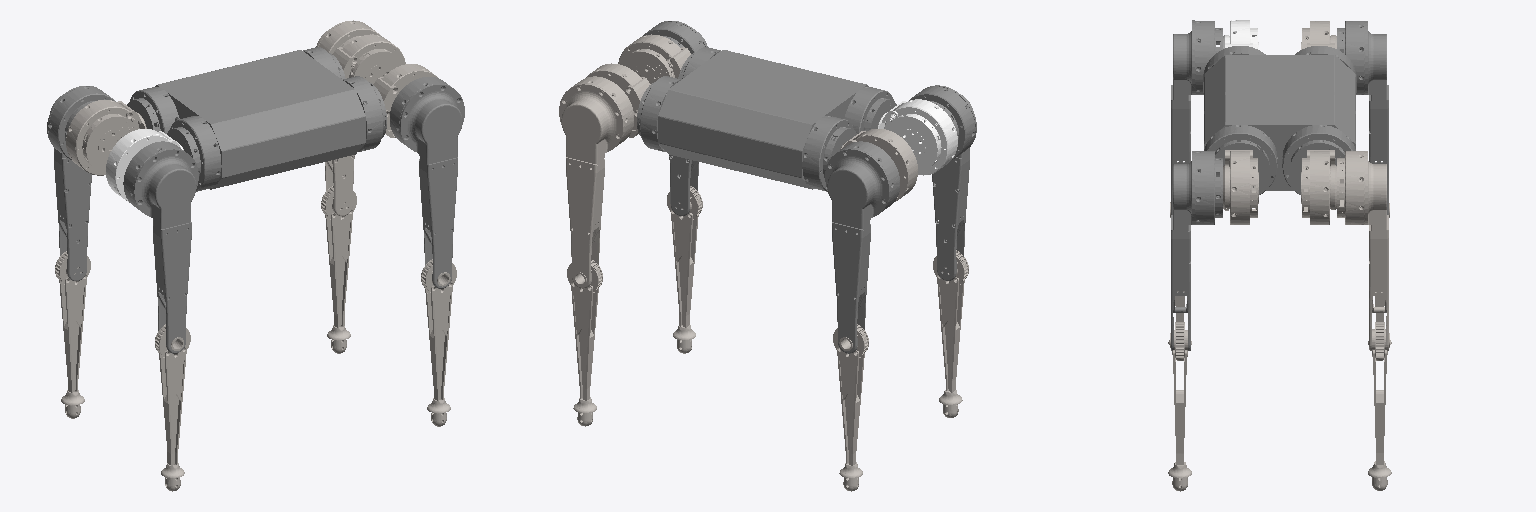
--- Facts derived from the render (not from the file) ---
3 views of the same robot in one strip: view 1: azimuth 30°, elevation 25°; view 2: azimuth 150°, elevation 25°; view 3: azimuth 270°, elevation 25° (orthographic).
Robot: dog_v4 — 13 links, 12 joints (12 revolute); root link body_link; default pose: all joints at 0.
Links seen in each view (by area): view 1: body_link, RB_mid_link, RF_mid_link, LB_mid_link, LB_top_link, RF_down_link, RB_down_link, LF_down_link, LB_down_link, LF_mid_link, LF_top_link, RB_top_link (+1 smaller); view 2: body_link, LF_mid_link, LB_mid_link, RB_mid_link, RB_top_link, LF_down_link, LB_down_link, RF_down_link, RB_down_link, RF_mid_link, RF_top_link, LB_top_link (+1 smaller); view 3: body_link, LF_mid_link, RF_mid_link, LB_mid_link, RB_mid_link, LF_top_link, RF_top_link, LF_down_link, RF_down_link, RB_top_link, LB_top_link.
Link boxes in pixels (<box>): body_link: <box>127,47,386,191</box>; RB_mid_link: <box>123,141,198,353</box>; RF_mid_link: <box>390,77,464,288</box>; LB_mid_link: <box>47,86,115,280</box>; LB_top_link: <box>66,100,146,175</box>; RF_down_link: <box>421,259,456,426</box>; RB_down_link: <box>155,324,190,491</box>; LF_down_link: <box>321,186,356,353</box>; LB_down_link: <box>55,251,90,418</box>; LF_mid_link: <box>316,20,380,215</box>; LF_top_link: <box>333,34,405,83</box>; RB_top_link: <box>106,129,183,202</box>; body_link: <box>637,47,896,191</box>; LF_mid_link: <box>559,76,633,288</box>; LB_mid_link: <box>825,141,899,353</box>; RB_mid_link: <box>909,85,976,280</box>; RB_top_link: <box>877,99,957,175</box>; LF_down_link: <box>567,259,602,426</box>; LB_down_link: <box>833,324,868,491</box>; RF_down_link: <box>667,186,702,353</box>; RB_down_link: <box>933,250,968,417</box>; RF_mid_link: <box>643,21,707,215</box>; RF_top_link: <box>618,34,690,83</box>; LB_top_link: <box>840,129,917,201</box>; body_link: <box>1203,46,1356,194</box>; LF_mid_link: <box>1337,151,1388,350</box>; RF_mid_link: <box>1171,151,1222,350</box>; LB_mid_link: <box>1337,21,1388,214</box>; RB_mid_link: <box>1171,20,1222,214</box>; LF_top_link: <box>1301,150,1336,224</box>; RF_top_link: <box>1223,150,1258,224</box>; LF_down_link: <box>1368,322,1391,490</box>; RF_down_link: <box>1168,322,1191,491</box>; RB_top_link: <box>1223,20,1258,49</box>; LB_top_link: <box>1301,21,1336,49</box>.
Size in the robot's own frame: 0.4813 by 0.2811 by 0.4675 metres.
13 mesh visuals loaded from 13 distinct referenced files (13 binary STL).

The robot description file, URDF, robot "dog_v4":
<?xml version="1.0" encoding="utf-8"?>
<!-- =================================================================================== -->
<!-- |    This document was autogenerated by xacro from dog_v4.xacro                   | -->
<!-- |    EDITING THIS FILE BY HAND IS NOT RECOMMENDED                                 | -->
<!-- =================================================================================== -->
<robot name="dog_v4">
  <link name="body_link">
    <inertial>
      <origin rpy="0 0 0" xyz="3.59365399029842E-08 2.29125606890368E-07 0.0454498530336411"/>
      <mass value="25.0794314099621"/>
      <inertia ixx="0.0822942642469674" ixy="-1.78120229421848E-08" ixz="8.54734089425751E-08" iyy="0.105805896621498" iyz="2.84371497321219E-07" izz="0.156039805240398"/>
    </inertial>
    <visual>
      <origin rpy="0 0 0" xyz="0 0 0"/>
      <geometry>
        <mesh filename="package://dog_v4/meshes/body_link.STL"/>
      </geometry>
      <material name="">
        <color rgba="0.6 0.6 0.6 1"/>
      </material>
    </visual>
    <collision>
      <origin rpy="0 0 0" xyz="0 0 0"/>
      <geometry>
        <mesh filename="package://dog_v4/meshes/body_link.STL"/>
      </geometry>
    </collision>
  </link>
  <link name="LF_top_link">
    <inertial>
      <origin rpy="0 0 0" xyz="0.02639 0.00062285 1.3269E-05"/>
      <mass value="0.1574"/>
      <inertia ixx="9.4106E-05" ixy="-9.8768E-07" ixz="-1.1286E-07" iyy="0.00012496" iyz="-9.7383E-09" izz="5.9686E-05"/>
    </inertial>
    <visual>
      <origin rpy="0 0 0" xyz="0 0 0"/>
      <geometry>
        <mesh filename="package://dog_v4/meshes/LF_top_link.STL"/>
      </geometry>
      <material name="">
        <color rgba="0.77647 0.75686 0.73725 1"/>
      </material>
    </visual>
    <collision>
      <origin rpy="0 0 0" xyz="0 0 0"/>
      <geometry>
        <mesh filename="package://dog_v4/meshes/LF_top_link.STL"/>
      </geometry>
    </collision>
  </link>
  <joint name="LF_top_joint" type="revolute">
    <origin rpy="0 0 0" xyz="0.141 0.05 0.04545"/>
    <parent link="body_link"/>
    <child link="LF_top_link"/>
    <axis xyz="1 0 0"/>
    <limit effort="100.0" lower="-1.57" upper="1.57" velocity="5.0"/>
    <dynamics damping="0.0" friction="0.0"/>
  </joint>
  <link name="LF_mid_link">
    <inertial>
      <origin rpy="0 0 0" xyz="-1.22483682477581E-05 0.0487648912011176 -0.0633406233333356"/>
      <mass value="0.738937110035494"/>
      <inertia ixx="0.00103721052037978" ixy="-2.04200549677798E-08" ixz="-4.21702731113156E-08" iyy="0.00123011741777564" iyz="1.52024995628507E-05" izz="0.000267793821007483"/>
    </inertial>
    <visual>
      <origin rpy="0 0 0" xyz="0 0 0"/>
      <geometry>
        <mesh filename="package://dog_v4/meshes/LF_mid_link.STL"/>
      </geometry>
      <material name="">
        <color rgba="0.776470588235294 0.756862745098039 0.737254901960784 1"/>
      </material>
    </visual>
    <collision>
      <origin rpy="0 0 0" xyz="0 0 0"/>
      <geometry>
        <mesh filename="package://dog_v4/meshes/LF_mid_link.STL"/>
      </geometry>
    </collision>
  </link>
  <joint name="LF_mid_joint" type="revolute">
    <origin rpy="0 0 0" xyz="0.052647 0.02125 9.2724E-05"/>
    <parent link="LF_top_link"/>
    <child link="LF_mid_link"/>
    <axis xyz="0 1 0"/>
    <limit effort="100.0" lower="-1.57" upper="1.57" velocity="5.0"/>
    <dynamics damping="0.0" friction="0.0"/>
  </joint>
  <link name="LF_down_link">
    <inertial>
      <origin rpy="0 0 0" xyz="-5.2121634081137E-05 0.00100252547655214 -0.0734382702906037"/>
      <mass value="0.300551677258286"/>
      <inertia ixx="0.000336998224662871" ixy="5.09859916248364E-11" ixz="1.16147313952368E-10" iyy="0.000352769216727733" iyz="-1.47711505397845E-11" izz="2.93076635016167E-05"/>
    </inertial>
    <visual>
      <origin rpy="0 0 0" xyz="0 0 0"/>
      <geometry>
        <mesh filename="package://dog_v4/meshes/LF_down_link.STL"/>
      </geometry>
      <material name="">
        <color rgba="0.776470588235294 0.756862745098039 0.737254901960784 1"/>
      </material>
    </visual>
    <collision>
      <origin rpy="0 0 0" xyz="0 0 0"/>
      <geometry>
        <mesh filename="package://dog_v4/meshes/LF_down_link.STL"/>
      </geometry>
    </collision>
  </link>
  <joint name="LF_down_joint" type="revolute">
    <origin rpy="0 0 0" xyz="0 0.0535 -0.21138"/>
    <parent link="LF_mid_link"/>
    <child link="LF_down_link"/>
    <axis xyz="0 1 0"/>
    <limit effort="100.0" lower="-1.57" upper="1.57" velocity="5.0"/>
    <dynamics damping="0.0" friction="0.0"/>
  </joint>
  <link name="RF_top_link">
    <inertial>
      <origin rpy="0 0 0" xyz="0.0263901999841434 -0.000622848908864299 -1.32687268125098E-05"/>
      <mass value="0.15740044195971"/>
      <inertia ixx="9.41058670909895E-05" ixy="9.87683421374913E-07" ixz="1.1285668464894E-07" iyy="0.00012495859879355" iyz="-9.73826160045511E-09" izz="5.96858784543533E-05"/>
    </inertial>
    <visual>
      <origin rpy="0 0 0" xyz="0 0 0"/>
      <geometry>
        <mesh filename="package://dog_v4/meshes/RF_top_link.STL"/>
      </geometry>
      <material name="">
        <color rgba="0.776470588235294 0.756862745098039 0.737254901960784 1"/>
      </material>
    </visual>
    <collision>
      <origin rpy="0 0 0" xyz="0 0 0"/>
      <geometry>
        <mesh filename="package://dog_v4/meshes/RF_top_link.STL"/>
      </geometry>
    </collision>
  </link>
  <joint name="RF_top_joint" type="revolute">
    <origin rpy="0 0 0" xyz="0.141 -0.05 0.04545"/>
    <parent link="body_link"/>
    <child link="RF_top_link"/>
    <axis xyz="1 0 0"/>
    <limit effort="100.0" lower="-1.57" upper="1.57" velocity="5.0"/>
    <dynamics damping="0.0" friction="0.0"/>
  </joint>
  <link name="RF_mid_link">
    <inertial>
      <origin rpy="0 0 0" xyz="7.52172599330359E-05 -0.0487649107544759 -0.063515028561511"/>
      <mass value="0.738937036461301"/>
      <inertia ixx="0.0010372109312777" ixy="-2.04489930527831E-08" ixz="3.64841294031766E-08" iyy="0.0012301178223017" iyz="-1.52021638758677E-05" izz="0.000267793766462554"/>
    </inertial>
    <visual>
      <origin rpy="0 0 0" xyz="0 0 0"/>
      <geometry>
        <mesh filename="package://dog_v4/meshes/RF_mid_link.STL"/>
      </geometry>
      <material name="">
        <color rgba="0.6 0.6 0.6 1"/>
      </material>
    </visual>
    <collision>
      <origin rpy="0 0 0" xyz="0 0 0"/>
      <geometry>
        <mesh filename="package://dog_v4/meshes/RF_mid_link.STL"/>
      </geometry>
    </collision>
  </link>
  <joint name="RF_mid_joint" type="revolute">
    <origin rpy="0 0 0" xyz="0.052647 -0.02125 9.2724E-05"/>
    <parent link="RF_top_link"/>
    <child link="RF_mid_link"/>
    <axis xyz="0 1 0"/>
    <limit effort="100.0" lower="-1.57" upper="1.57" velocity="5.0"/>
    <dynamics damping="0.0" friction="0.0"/>
  </joint>
  <link name="RF_down_link">
    <inertial>
      <origin rpy="0 0 0" xyz="5.21297187678349E-05 -0.00100252409918886 -0.0734382823671863"/>
      <mass value="0.300551781300463"/>
      <inertia ixx="0.000336998255214494" ixy="4.78659762699933E-11" ixz="1.16223885811268E-10" iyy="0.000352769237624744" iyz="1.32635609364215E-11" izz="2.93076599310258E-05"/>
    </inertial>
    <visual>
      <origin rpy="0 0 0" xyz="0 0 0"/>
      <geometry>
        <mesh filename="package://dog_v4/meshes/RF_down_link.STL"/>
      </geometry>
      <material name="">
        <color rgba="0.776470588235294 0.756862745098039 0.737254901960784 1"/>
      </material>
    </visual>
    <collision>
      <origin rpy="0 0 0" xyz="0 0 0"/>
      <geometry>
        <mesh filename="package://dog_v4/meshes/RF_down_link.STL"/>
      </geometry>
    </collision>
  </link>
  <joint name="RF_down_joint" type="revolute">
    <origin rpy="0 0 0" xyz="6.3049E-05 -0.0535 -0.21156"/>
    <parent link="RF_mid_link"/>
    <child link="RF_down_link"/>
    <axis xyz="0 1 0"/>
    <limit effort="100.0" lower="-1.57" upper="1.57" velocity="5.0"/>
    <dynamics damping="0.0" friction="0.0"/>
  </joint>
  <link name="LB_top_link">
    <inertial>
      <origin rpy="0 0 0" xyz="-0.0263901989657993 0.000622847753819405 -1.32687274303489E-05"/>
      <mass value="0.157400449286954"/>
      <inertia ixx="9.41058660743391E-05" ixy="9.87684273498811E-07" ixz="-1.12856623194467E-07" iyy="0.000124958594900212" iyz="9.73826057587375E-09" izz="5.96858816789111E-05"/>
    </inertial>
    <visual>
      <origin rpy="0 0 0" xyz="0 0 0"/>
      <geometry>
        <mesh filename="package://dog_v4/meshes/LB_top_link.STL"/>
      </geometry>
      <material name="">
        <color rgba="0.776470588235294 0.756862745098039 0.737254901960784 1"/>
      </material>
    </visual>
    <collision>
      <origin rpy="0 0 0" xyz="0 0 0"/>
      <geometry>
        <mesh filename="package://dog_v4/meshes/LB_top_link.STL"/>
      </geometry>
    </collision>
  </link>
  <joint name="LB_top_joint" type="revolute">
    <origin rpy="0 0 0" xyz="-0.141 0.05 0.04545"/>
    <parent link="body_link"/>
    <child link="LB_top_link"/>
    <axis xyz="1 0 0"/>
    <limit effort="100.0" lower="-1.57" upper="1.57" velocity="5.0"/>
    <dynamics damping="0.0" friction="0.0"/>
  </joint>
  <link name="LB_mid_link">
    <inertial>
      <origin rpy="0 0 0" xyz="0.00010365 0.048765 -0.063485"/>
      <mass value="0.73894"/>
      <inertia ixx="0.0010372" ixy="-2.0457E-08" ixz="-3.9998E-08" iyy="0.0012301" iyz="1.5202E-05" izz="0.00026779"/>
    </inertial>
    <visual>
      <origin rpy="0 0 0" xyz="0 0 0"/>
      <geometry>
        <mesh filename="package://dog_v4/meshes/LB_mid_link.STL"/>
      </geometry>
      <material name="">
        <color rgba="0.6 0.6 0.6 1"/>
      </material>
    </visual>
    <collision>
      <origin rpy="0 0 0" xyz="0 0 0"/>
      <geometry>
        <mesh filename="package://dog_v4/meshes/LB_mid_link.STL"/>
      </geometry>
    </collision>
  </link>
  <joint name="LB_mid_joint" type="revolute">
    <origin rpy="0 0 0" xyz="-0.052647 0.02125 9.2724E-05"/>
    <parent link="LB_top_link"/>
    <child link="LB_mid_link"/>
    <axis xyz="0 1 0"/>
    <limit effort="100.0" lower="-1.57" upper="1.57" velocity="5.0"/>
    <dynamics damping="0.0" friction="0.0"/>
  </joint>
  <link name="LB_down_link">
    <inertial>
      <origin rpy="0 0 0" xyz="-5.21254997021825E-05 0.00100252557683615 -0.073438254514421"/>
      <mass value="0.300551676792456"/>
      <inertia ixx="0.000336998282459304" ixy="4.86629441623418E-11" ixz="-3.49945646767292E-11" iyy="0.000352769263569714" iyz="-1.77505288707495E-11" izz="2.93076582702725E-05"/>
    </inertial>
    <visual>
      <origin rpy="0 0 0" xyz="0 0 0"/>
      <geometry>
        <mesh filename="package://dog_v4/meshes/LB_down_link.STL"/>
      </geometry>
      <material name="">
        <color rgba="0.776470588235294 0.756862745098039 0.737254901960784 1"/>
      </material>
    </visual>
    <collision>
      <origin rpy="0 0 0" xyz="0 0 0"/>
      <geometry>
        <mesh filename="package://dog_v4/meshes/LB_down_link.STL"/>
      </geometry>
    </collision>
  </link>
  <joint name="LB_down_joint" type="revolute">
    <origin rpy="0 0 0" xyz="0.00011587 0.0535 -0.21153"/>
    <parent link="LB_mid_link"/>
    <child link="LB_down_link"/>
    <axis xyz="0 1 0"/>
    <limit effort="100.0" lower="-1.57" upper="1.57" velocity="5.0"/>
    <dynamics damping="0.0" friction="0.0"/>
  </joint>
  <link name="RB_top_link">
    <inertial>
      <origin rpy="0 0 0" xyz="-0.0263901989657993 -0.000622847753819405 1.32687274303489E-05"/>
      <mass value="0.15740044195971"/>
      <inertia ixx="9.41058660743391E-05" ixy="-9.87684273498811E-07" ixz="1.12856623194467E-07" iyy="0.000124958594900212" iyz="9.73826057587375E-09" izz="5.96858816789111E-05"/>
    </inertial>
    <visual>
      <origin rpy="0 0 0" xyz="0 0 0"/>
      <geometry>
        <mesh filename="package://dog_v4/meshes/RB_top_link.STL"/>
      </geometry>
      <material name="">
        <color rgba="1 1 1 1"/>
      </material>
    </visual>
    <collision>
      <origin rpy="0 0 0" xyz="0 0 0"/>
      <geometry>
        <mesh filename="package://dog_v4/meshes/RB_top_link.STL"/>
      </geometry>
    </collision>
  </link>
  <joint name="RB_top_joint" type="revolute">
    <origin rpy="0 0 0" xyz="-0.141 -0.05 0.04545"/>
    <parent link="body_link"/>
    <child link="RB_top_link"/>
    <axis xyz="1 0 0"/>
    <limit effort="100.0" lower="-1.57" upper="1.57" velocity="5.0"/>
    <dynamics damping="0.0" friction="0.0"/>
  </joint>
  <link name="RB_mid_link">
    <inertial>
      <origin rpy="0 0 0" xyz="1.221E-05 -0.048765 -0.063341"/>
      <mass value="0.73894"/>
      <inertia ixx="0.0010372" ixy="-2.0454E-08" ixz="3.9548E-08" iyy="0.0012301" iyz="-1.5202E-05" izz="0.00026779"/>
    </inertial>
    <visual>
      <origin rpy="0 0 0" xyz="0 0 0"/>
      <geometry>
        <mesh filename="package://dog_v4/meshes/RB_mid_link.STL"/>
      </geometry>
      <material name="">
        <color rgba="0.6 0.6 0.6 1"/>
      </material>
    </visual>
    <collision>
      <origin rpy="0 0 0" xyz="0 0 0"/>
      <geometry>
        <mesh filename="package://dog_v4/meshes/RB_mid_link.STL"/>
      </geometry>
    </collision>
  </link>
  <joint name="RB_mid_joint" type="revolute">
    <origin rpy="0 0 0" xyz="-0.052647 -0.02125 9.2724E-05"/>
    <parent link="RB_top_link"/>
    <child link="RB_mid_link"/>
    <axis xyz="0 1 0"/>
    <limit effort="100.0" lower="-1.57" upper="1.57" velocity="5.0"/>
    <dynamics damping="0.0" friction="0.0"/>
  </joint>
  <link name="RB_down_link">
    <inertial>
      <origin rpy="0 0 0" xyz="5.2122E-05 -0.0010025 -0.073438"/>
      <mass value="0.30055"/>
      <inertia ixx="0.000337" ixy="5.026E-11" ixz="-1.1469E-10" iyy="0.00035277" iyz="1.4367E-11" izz="2.9308E-05"/>
    </inertial>
    <visual>
      <origin rpy="0 0 0" xyz="0 0 0"/>
      <geometry>
        <mesh filename="package://dog_v4/meshes/RB_down_link.STL"/>
      </geometry>
      <material name="">
        <color rgba="0.77647 0.75686 0.73725 1"/>
      </material>
    </visual>
    <collision>
      <origin rpy="0 0 0" xyz="0 0 0"/>
      <geometry>
        <mesh filename="package://dog_v4/meshes/RB_down_link.STL"/>
      </geometry>
    </collision>
  </link>
  <joint name="RB_down_joint" type="revolute">
    <origin rpy="0 0 0" xyz="0 -0.0535 -0.21138"/>
    <parent link="RB_mid_link"/>
    <child link="RB_down_link"/>
    <axis xyz="0 1 0"/>
    <limit effort="100.0" lower="-1.57" upper="1.57" velocity="5.0"/>
    <dynamics damping="0.0" friction="0.0"/>
  </joint>
  <transmission name="LF_top_trans">
    <type>transmission_interface/SimpleTransmission</type>
    <joint name="LF_top_joint">
      <hardwareInterface>hardware_interface/EffortJointInterface</hardwareInterface>
      <!--Note that the value of this tag should be EffortJointInterface when this transmission is loaded in Gazebo -->
    </joint>
    <actuator name="LF_top_motor">
      <!--An actuator the transmission is connected to. The actuator is specified by its name attribute, and the following sub-elements -->
      <mechanicalReduction>10</mechanicalReduction>
      <hardwareInterface>hardware_interface/EffortJointInterface</hardwareInterface>
    </actuator>
  </transmission>
  <transmission name="LF_mid_trans">
    <type>transmission_interface/SimpleTransmission</type>
    <joint name="LF_mid_joint">
      <hardwareInterface>hardware_interface/EffortJointInterface</hardwareInterface>
      <!--Note that the value of this tag should be EffortJointInterface when this transmission is loaded in Gazebo -->
    </joint>
    <actuator name="LF_mid_motor">
      <!--An actuator the transmission is connected to. The actuator is specified by its name attribute, and the following sub-elements -->
      <mechanicalReduction>10</mechanicalReduction>
      <hardwareInterface>hardware_interface/EffortJointInterface</hardwareInterface>
    </actuator>
  </transmission>
  <transmission name="LF_down_trans">
    <type>transmission_interface/SimpleTransmission</type>
    <joint name="LF_down_joint">
      <hardwareInterface>hardware_interface/EffortJointInterface</hardwareInterface>
      <!--Note that the value of this tag should be EffortJointInterface when this transmission is loaded in Gazebo -->
    </joint>
    <actuator name="LF_down_motor">
      <!--An actuator the transmission is connected to. The actuator is specified by its name attribute, and the following sub-elements -->
      <mechanicalReduction>10</mechanicalReduction>
      <hardwareInterface>hardware_interface/EffortJointInterface</hardwareInterface>
    </actuator>
  </transmission>
  <transmission name="RF_top_trans">
    <type>transmission_interface/SimpleTransmission</type>
    <joint name="RF_top_joint">
      <hardwareInterface>hardware_interface/EffortJointInterface</hardwareInterface>
      <!--Note that the value of this tag should be EffortJointInterface when this transmission is loaded in Gazebo -->
    </joint>
    <actuator name="RF_top_motor">
      <!--An actuator the transmission is connected to. The actuator is specified by its name attribute, and the following sub-elements -->
      <mechanicalReduction>10</mechanicalReduction>
      <hardwareInterface>hardware_interface/EffortJointInterface</hardwareInterface>
    </actuator>
  </transmission>
  <transmission name="RF_mid_trans">
    <type>transmission_interface/SimpleTransmission</type>
    <joint name="RF_mid_joint">
      <hardwareInterface>hardware_interface/EffortJointInterface</hardwareInterface>
      <!--Note that the value of this tag should be EffortJointInterface when this transmission is loaded in Gazebo -->
    </joint>
    <actuator name="RF_mid_motor">
      <!--An actuator the transmission is connected to. The actuator is specified by its name attribute, and the following sub-elements -->
      <mechanicalReduction>10</mechanicalReduction>
      <hardwareInterface>hardware_interface/EffortJointInterface</hardwareInterface>
    </actuator>
  </transmission>
  <transmission name="RF_down_trans">
    <type>transmission_interface/SimpleTransmission</type>
    <joint name="RF_down_joint">
      <hardwareInterface>hardware_interface/EffortJointInterface</hardwareInterface>
      <!--Note that the value of this tag should be EffortJointInterface when this transmission is loaded in Gazebo -->
    </joint>
    <actuator name="RF_down_motor">
      <!--An actuator the transmission is connected to. The actuator is specified by its name attribute, and the following sub-elements -->
      <mechanicalReduction>10</mechanicalReduction>
      <hardwareInterface>hardware_interface/EffortJointInterface</hardwareInterface>
    </actuator>
  </transmission>
  <transmission name="LB_top_trans">
    <type>transmission_interface/SimpleTransmission</type>
    <joint name="LB_top_joint">
      <hardwareInterface>hardware_interface/EffortJointInterface</hardwareInterface>
      <!--Note that the value of this tag should be EffortJointInterface when this transmission is loaded in Gazebo -->
    </joint>
    <actuator name="LB_top_motor">
      <!--An actuator the transmission is connected to. The actuator is specified by its name attribute, and the following sub-elements -->
      <mechanicalReduction>10</mechanicalReduction>
      <hardwareInterface>hardware_interface/EffortJointInterface</hardwareInterface>
    </actuator>
  </transmission>
  <transmission name="LB_mid_trans">
    <type>transmission_interface/SimpleTransmission</type>
    <joint name="LB_mid_joint">
      <hardwareInterface>hardware_interface/EffortJointInterface</hardwareInterface>
      <!--Note that the value of this tag should be EffortJointInterface when this transmission is loaded in Gazebo -->
    </joint>
    <actuator name="LB_mid_motor">
      <!--An actuator the transmission is connected to. The actuator is specified by its name attribute, and the following sub-elements -->
      <mechanicalReduction>10</mechanicalReduction>
      <hardwareInterface>hardware_interface/EffortJointInterface</hardwareInterface>
    </actuator>
  </transmission>
  <transmission name="LB_down_trans">
    <type>transmission_interface/SimpleTransmission</type>
    <joint name="LB_down_joint">
      <hardwareInterface>hardware_interface/EffortJointInterface</hardwareInterface>
      <!--Note that the value of this tag should be EffortJointInterface when this transmission is loaded in Gazebo -->
    </joint>
    <actuator name="LB_down_motor">
      <!--An actuator the transmission is connected to. The actuator is specified by its name attribute, and the following sub-elements -->
      <mechanicalReduction>10</mechanicalReduction>
      <hardwareInterface>hardware_interface/EffortJointInterface</hardwareInterface>
    </actuator>
  </transmission>
  <transmission name="RB_top_trans">
    <type>transmission_interface/SimpleTransmission</type>
    <joint name="RB_top_joint">
      <hardwareInterface>hardware_interface/EffortJointInterface</hardwareInterface>
      <!--Note that the value of this tag should be EffortJointInterface when this transmission is loaded in Gazebo -->
    </joint>
    <actuator name="RB_top_motor">
      <!--An actuator the transmission is connected to. The actuator is specified by its name attribute, and the following sub-elements -->
      <mechanicalReduction>10</mechanicalReduction>
      <hardwareInterface>hardware_interface/EffortJointInterface</hardwareInterface>
    </actuator>
  </transmission>
  <transmission name="RB_mid_trans">
    <type>transmission_interface/SimpleTransmission</type>
    <joint name="RB_mid_joint">
      <hardwareInterface>hardware_interface/EffortJointInterface</hardwareInterface>
      <!--Note that the value of this tag should be EffortJointInterface when this transmission is loaded in Gazebo -->
    </joint>
    <actuator name="RB_mid_motor">
      <!--An actuator the transmission is connected to. The actuator is specified by its name attribute, and the following sub-elements -->
      <mechanicalReduction>10</mechanicalReduction>
      <hardwareInterface>hardware_interface/EffortJointInterface</hardwareInterface>
    </actuator>
  </transmission>
  <transmission name="RB_down_trans">
    <type>transmission_interface/SimpleTransmission</type>
    <joint name="RB_down_joint">
      <hardwareInterface>hardware_interface/EffortJointInterface</hardwareInterface>
      <!--Note that the value of this tag should be EffortJointInterface when this transmission is loaded in Gazebo -->
    </joint>
    <actuator name="RB_down_motor">
      <!--An actuator the transmission is connected to. The actuator is specified by its name attribute, and the following sub-elements -->
      <mechanicalReduction>10</mechanicalReduction>
      <hardwareInterface>hardware_interface/EffortJointInterface</hardwareInterface>
    </actuator>
  </transmission>
  <gazebo>
    <plugin filename="libgazebo_ros_control.so" name="gazebo_ros_control">
      <robotNamespace>/dog_v4</robotNamespace>
      <!-- <robotNamespace>: The ROS namespace to be used for this instance of the plugin, defaults to robot name in URDF/SDF -->
      <robotSimType>gazebo_ros_control/DefaultRobotHWSim</robotSimType>
      <!--By default, without a <robotSimType> tag, gazebo_ros_control will attempt to get all of the information it needs to interface with a ros_control-based controller out of the URDF. -->
    </plugin>
  </gazebo>
  <gazebo reference="LF_top_link">
    <material>Gazebo/SkyBlue</material>
    <mu1>0.5</mu1>
    <mu2>0.5</mu2>
  </gazebo>
  <gazebo reference="LF_mid_link">
    <material>Gazebo/SkyBlue</material>
    <mu1>0.5</mu1>
    <mu2>0.5</mu2>
  </gazebo>
  <gazebo reference="LF_down_link">
    <material>Gazebo/SkyBlue</material>
    <mu1>0.5</mu1>
    <mu2>0.5</mu2>
  </gazebo>
  <gazebo reference="RF_top_link">
    <material>Gazebo/SkyBlue</material>
    <mu1>0.5</mu1>
    <mu2>0.5</mu2>
  </gazebo>
  <gazebo reference="RF_mid_link">
    <material>Gazebo/SkyBlue</material>
    <mu1>0.5</mu1>
    <mu2>0.5</mu2>
  </gazebo>
  <gazebo reference="RF_down_link">
    <material>Gazebo/SkyBlue</material>
    <mu1>0.5</mu1>
    <mu2>0.5</mu2>
  </gazebo>
  <gazebo reference="LB_top_link">
    <material>Gazebo/SkyBlue</material>
    <mu1>0.5</mu1>
    <mu2>0.5</mu2>
  </gazebo>
  <gazebo reference="LB_mid_link">
    <material>Gazebo/SkyBlue</material>
    <mu1>0.5</mu1>
    <mu2>0.5</mu2>
  </gazebo>
  <gazebo reference="LB_down_link">
    <material>Gazebo/SkyBlue</material>
    <mu1>0.5</mu1>
    <mu2>0.5</mu2>
  </gazebo>
  <gazebo reference="RB_top_link">
    <material>Gazebo/SkyBlue</material>
    <mu1>0.5</mu1>
    <mu2>0.5</mu2>
  </gazebo>
  <gazebo reference="RB_mid_link">
    <material>Gazebo/SkyBlue</material>
    <mu1>0.5</mu1>
    <mu2>0.5</mu2>
  </gazebo>
  <gazebo reference="RB_down_link">
    <material>Gazebo/SkyBlue</material>
    <mu1>0.5</mu1>
    <mu2>0.5</mu2>
  </gazebo>
</robot>
